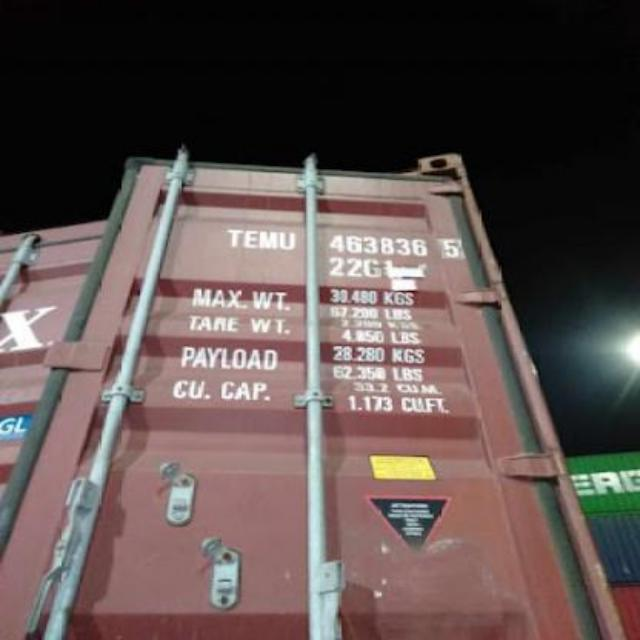3: (358, 228, 378, 256), (394, 231, 410, 257)
4: (331, 228, 344, 256)
5: (438, 234, 464, 260)
6: (342, 228, 360, 256), (412, 232, 430, 260)
8: (378, 230, 394, 258)
E: (242, 224, 258, 252)
M: (258, 223, 278, 253)
T: (222, 220, 242, 250)
U: (279, 226, 295, 254)
